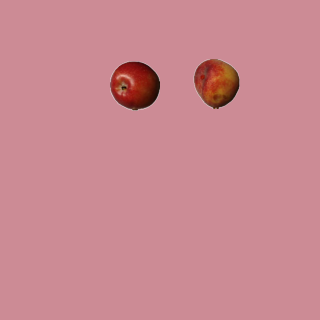Apple Braeburn: (109, 60, 159, 110)
Peach: (191, 58, 241, 108)
